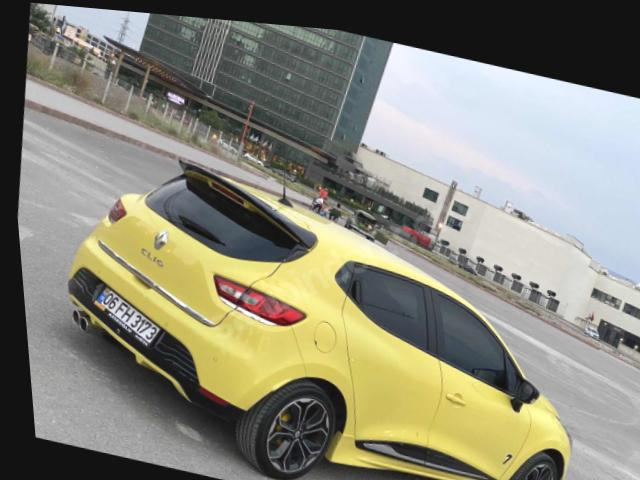plaka: (94, 288, 160, 346)
